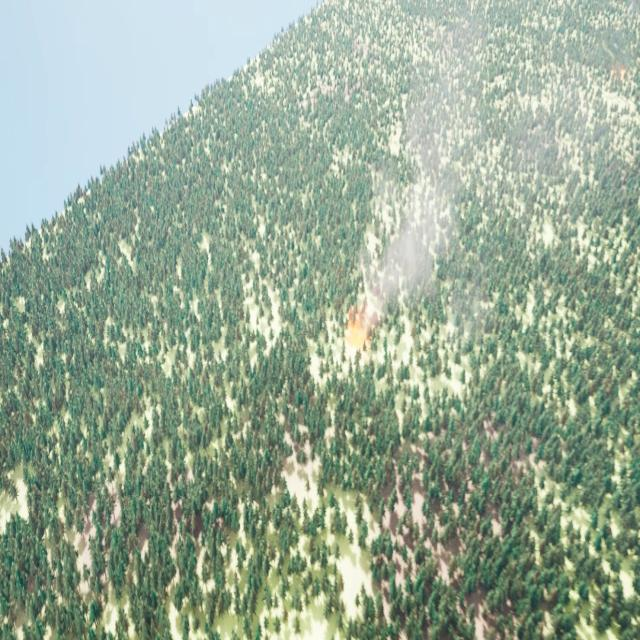fire: (343, 308, 373, 348)
smoke: (363, 32, 547, 305)
